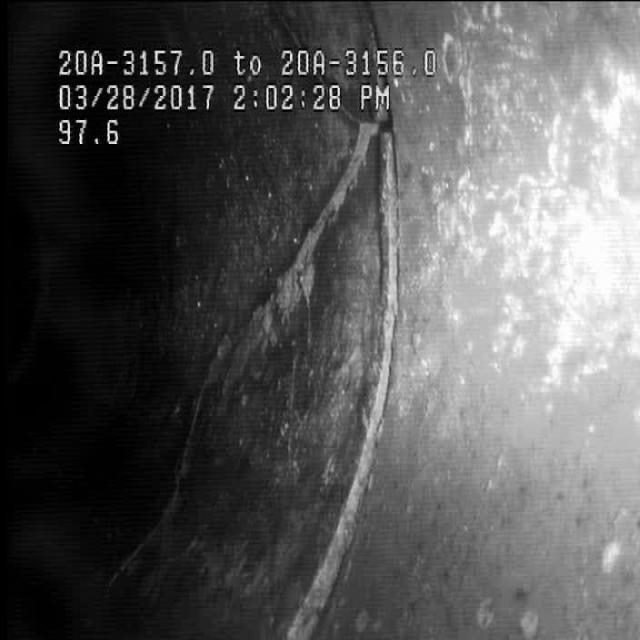Fracture: (128, 161, 446, 620)
